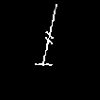treble_crochet: (35, 4, 56, 65)
